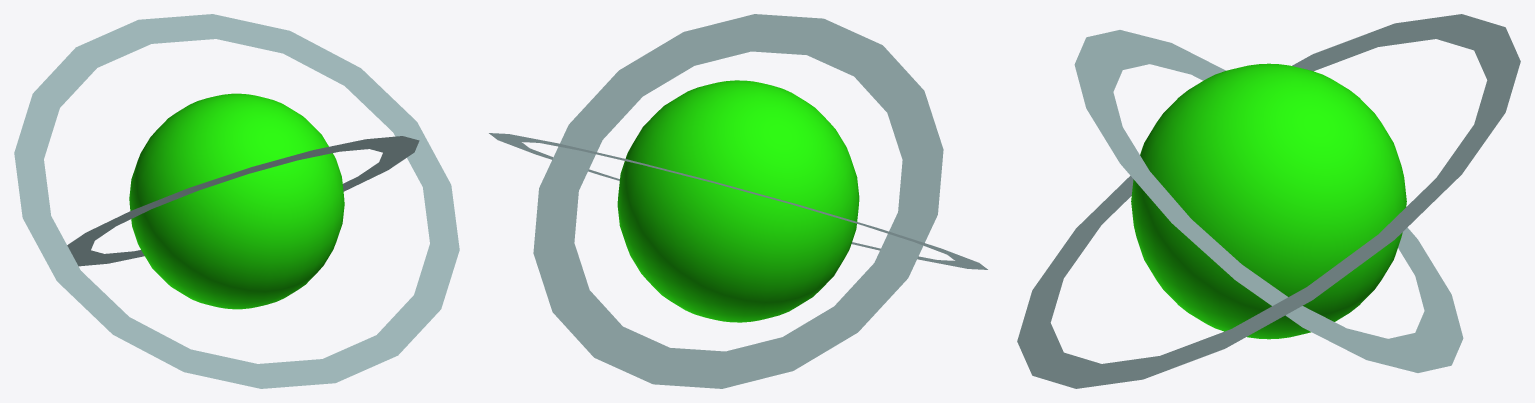
File: Gas4.fbx
3 renders of one model, left to right at view 1: azimuth 30°, elevation 25°; view 2: azimuth 150°, elevation 25°; view 3: azimuth 270°, elevation 25°, orthographic. The views are drawn at different scales.
Visible parts, largest first — view 1: Sphere001, Tube002, Tube001; view 2: Sphere001, Tube001, Tube002; view 3: Sphere001, Tube002, Tube001.
Part boxes in pixels (bbox=[...]): Sphere001: bbox=[129, 93, 344, 309]; Tube002: bbox=[14, 14, 459, 388]; Tube001: bbox=[67, 136, 419, 266]; Sphere001: bbox=[617, 80, 859, 322]; Tube001: bbox=[533, 14, 943, 388]; Tube002: bbox=[489, 133, 987, 269]; Sphere001: bbox=[1131, 63, 1406, 339]; Tube002: bbox=[1017, 14, 1520, 388]; Tube001: bbox=[1074, 30, 1463, 372].
Size of the model in its own units: 23.26 by 12.35 by 20.14.
